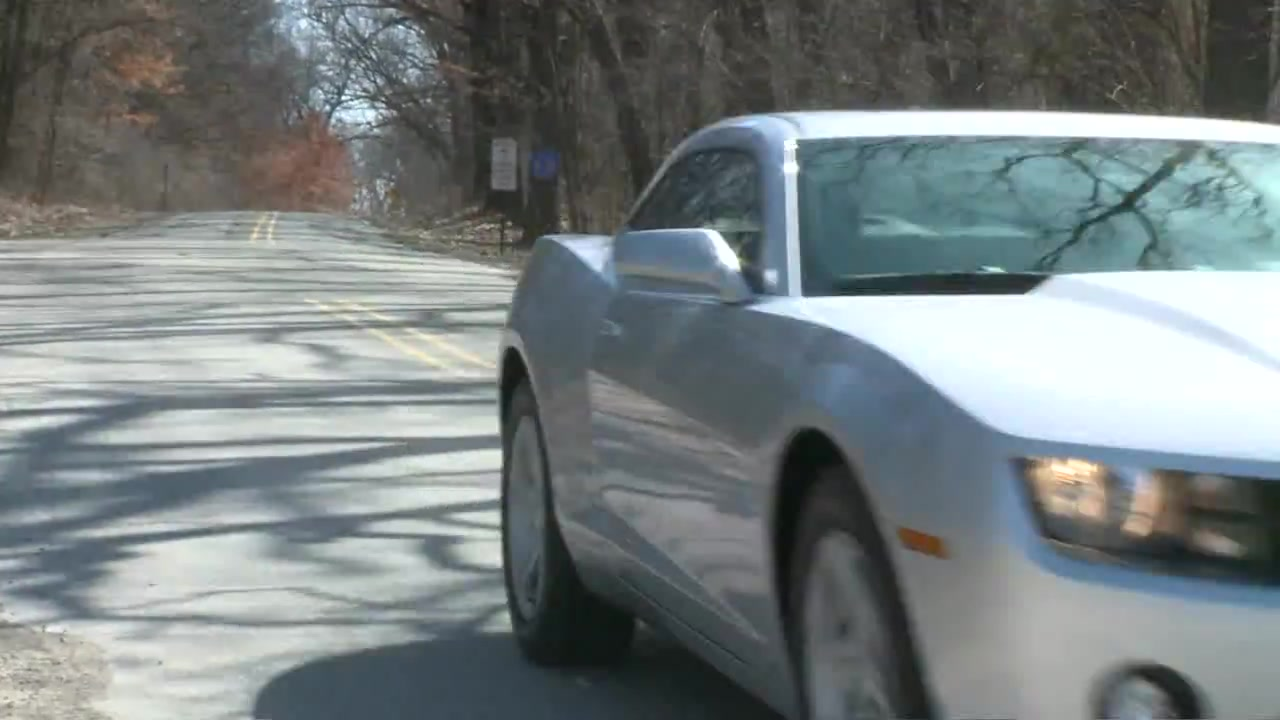car: (497, 104, 1280, 720)
